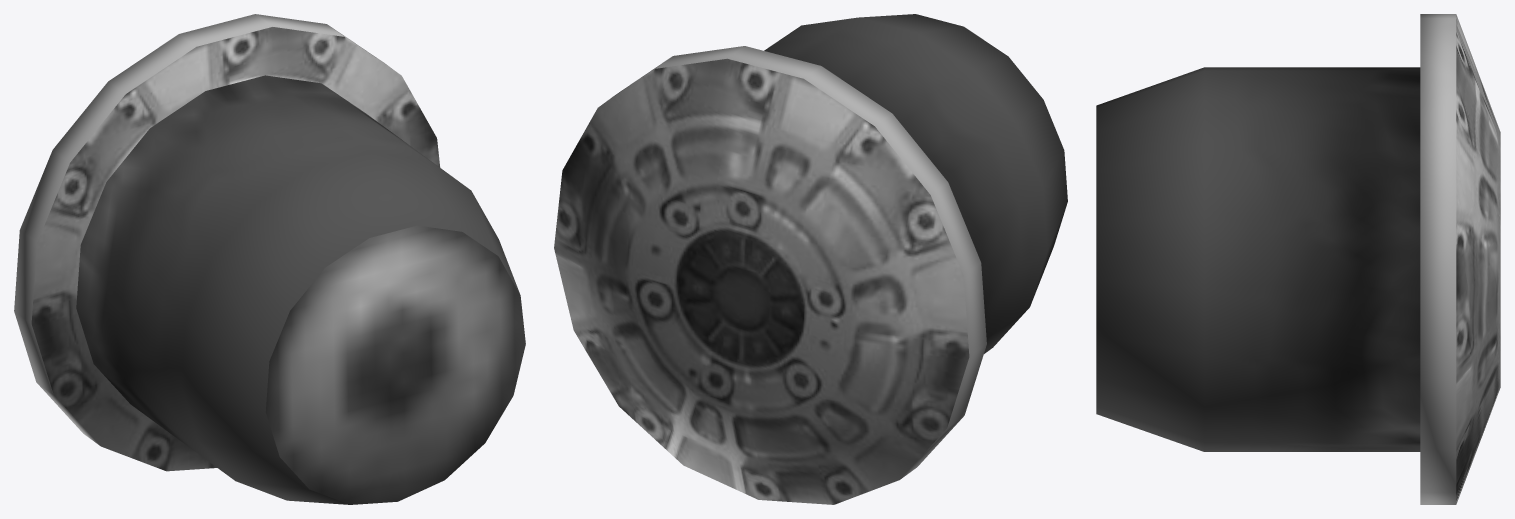
Rendered from rear_left_wheel_112.dae.
3 views of the same model, side by side, from view 1: azimuth 30°, elevation 25°; view 2: azimuth 150°, elevation 25°; view 3: azimuth 270°, elevation 25° (orthographic). The views are drawn at different scales.
Visible parts, largest first — view 1: node; view 2: node; view 3: node.
Part boxes in pixels (bbox=[...]): node: bbox=[14, 14, 525, 504]; node: bbox=[554, 14, 1067, 504]; node: bbox=[1096, 14, 1500, 504].
Bounding box in the file's own units: 0.1775 × 0.146 × 0.177.
Materials: 1 (1 with a texture image).
